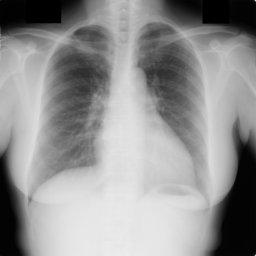left lobe: (138, 23, 207, 186)
right lobe: (36, 26, 113, 180)
